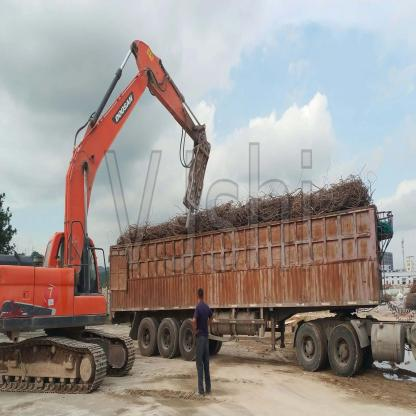rebar: (109, 146, 379, 247)
